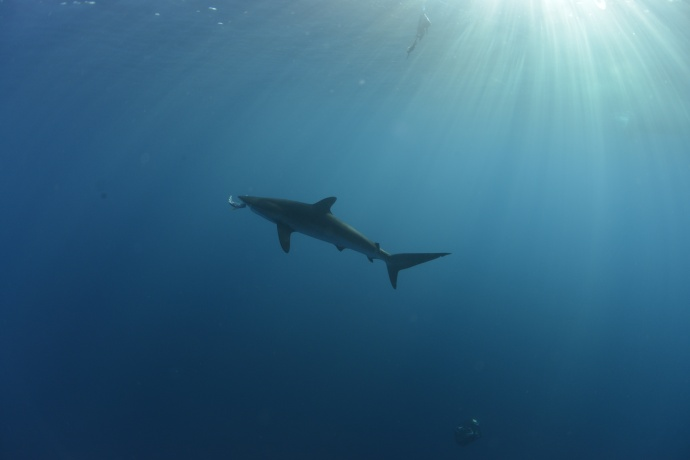Sedoso: (208, 169, 462, 297)
